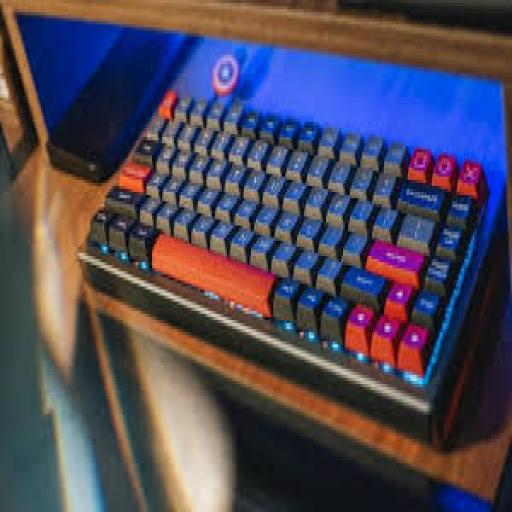KEYBOARD-2: (79, 98, 490, 442)
